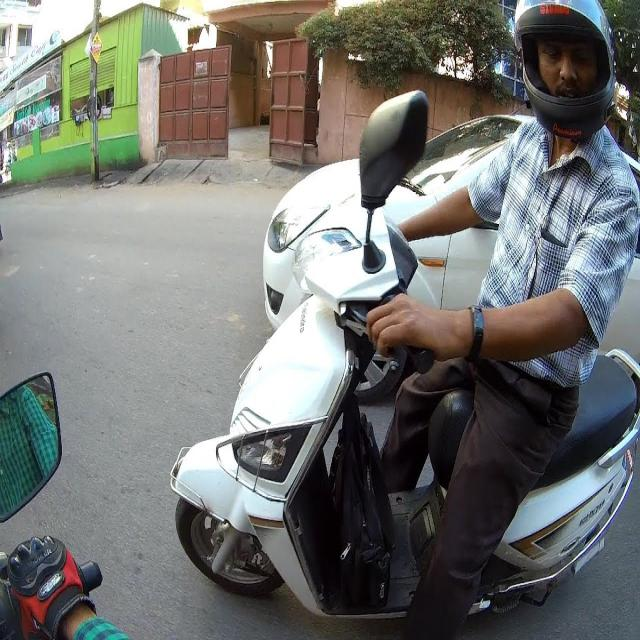motorcycle: (171, 0, 640, 637)
